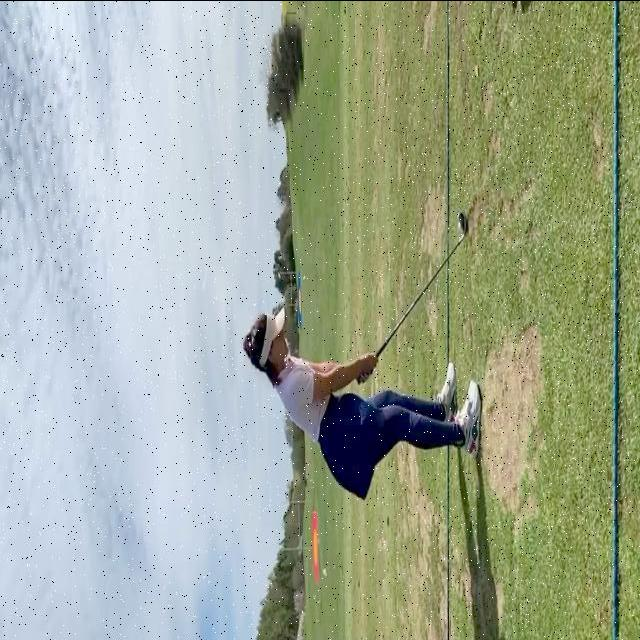ClubHandle: (356, 210, 466, 384)
ClubHead: (459, 210, 466, 234)
GolfBall: (458, 223, 462, 231)
